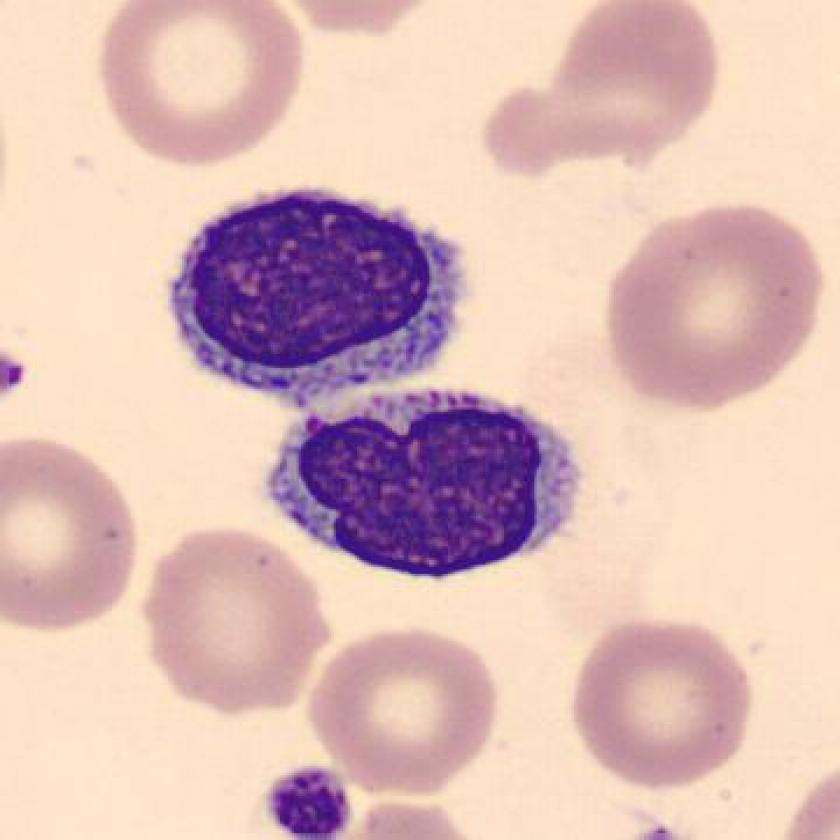lymphocyte: (251, 378, 605, 596), (165, 183, 474, 396)
platelets: (261, 762, 356, 840)
